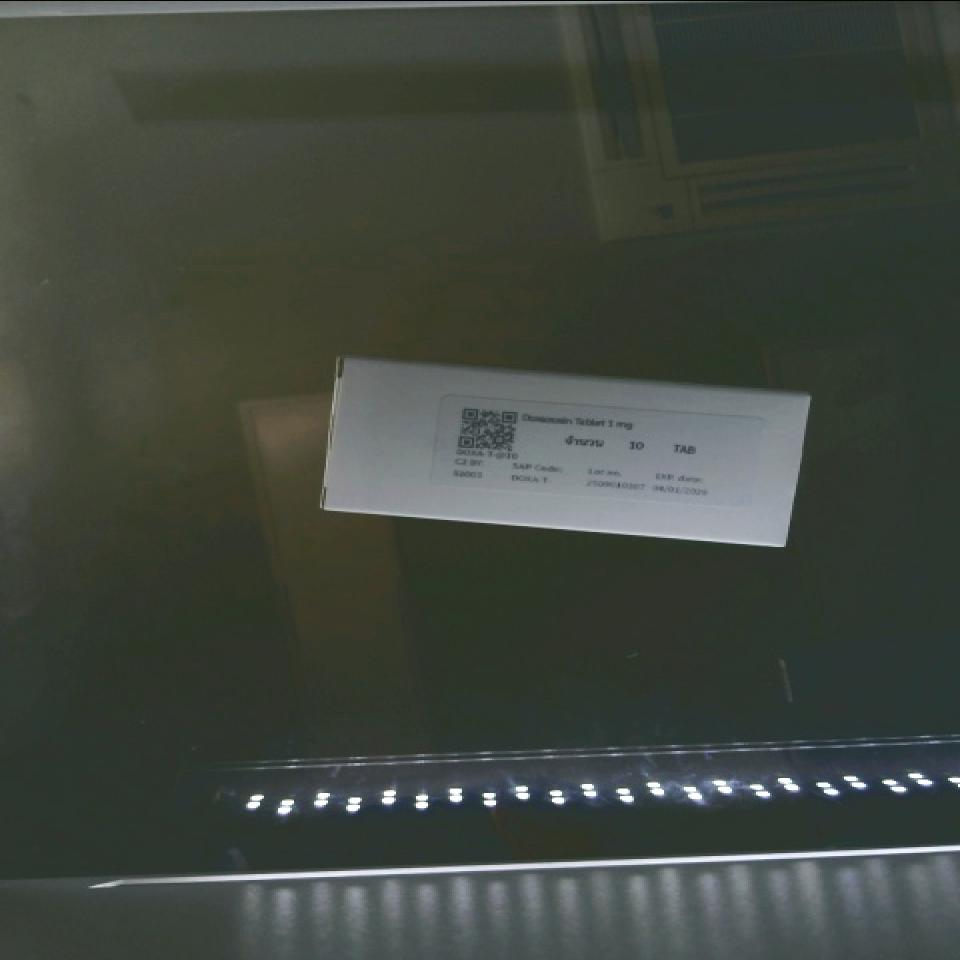medicine_box: (319, 358, 808, 549)
qr_code: (436, 402, 538, 463)
